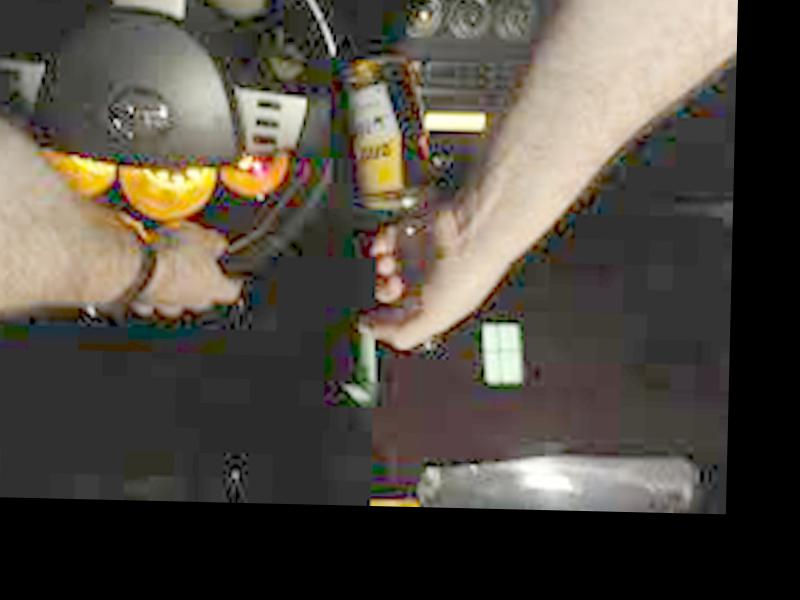Beer: (328, 59, 449, 349)
